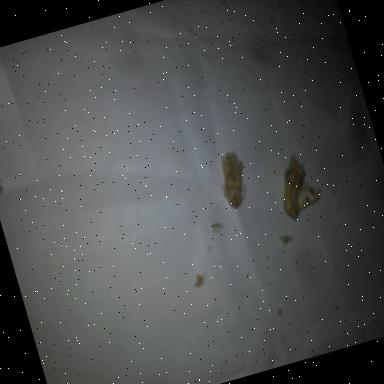abw: (266, 144, 334, 231), (208, 142, 260, 216)
